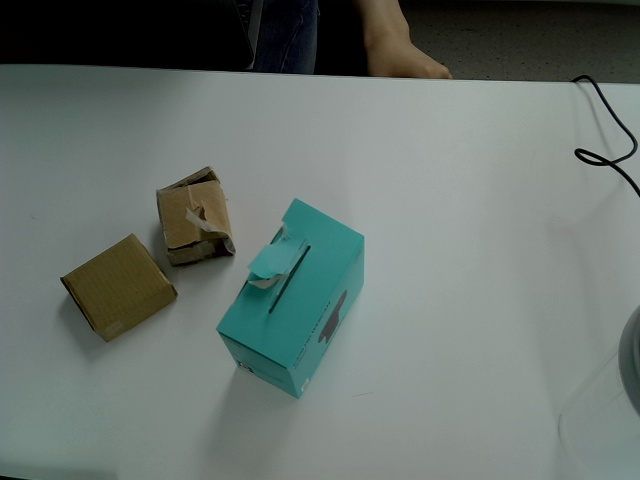defect: (156, 165, 238, 267)
normal: (60, 231, 181, 343)
